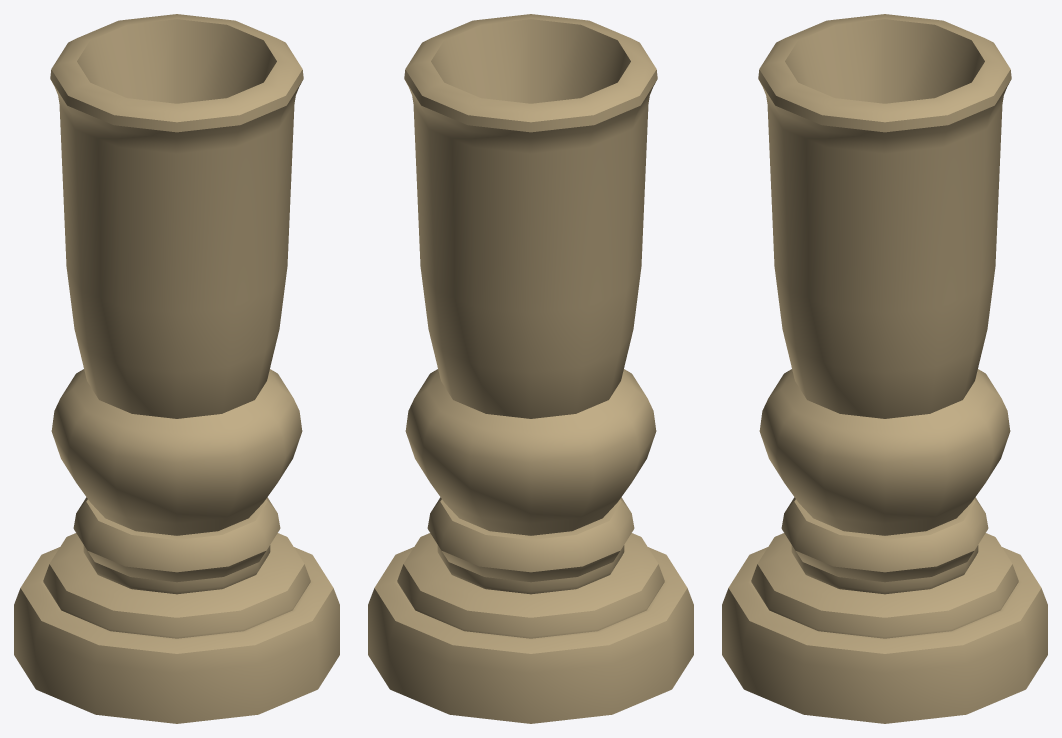
Rendered from O_Jarron_3.fbx.
3 views of the same model, side by side, from view 1: azimuth 30°, elevation 25°; view 2: azimuth 150°, elevation 25°; view 3: azimuth 270°, elevation 25° (orthographic).
Parts seen in each view (by area): view 1: Line002; view 2: Line002; view 3: Line002.
Boxes of the visible parts, x1,y1,x2,y2 form: Line002: [14, 14, 339, 723]; Line002: [368, 14, 693, 723]; Line002: [722, 14, 1047, 723].
Bounding box in the file's own units: 23.94 × 48.12 × 23.94.
